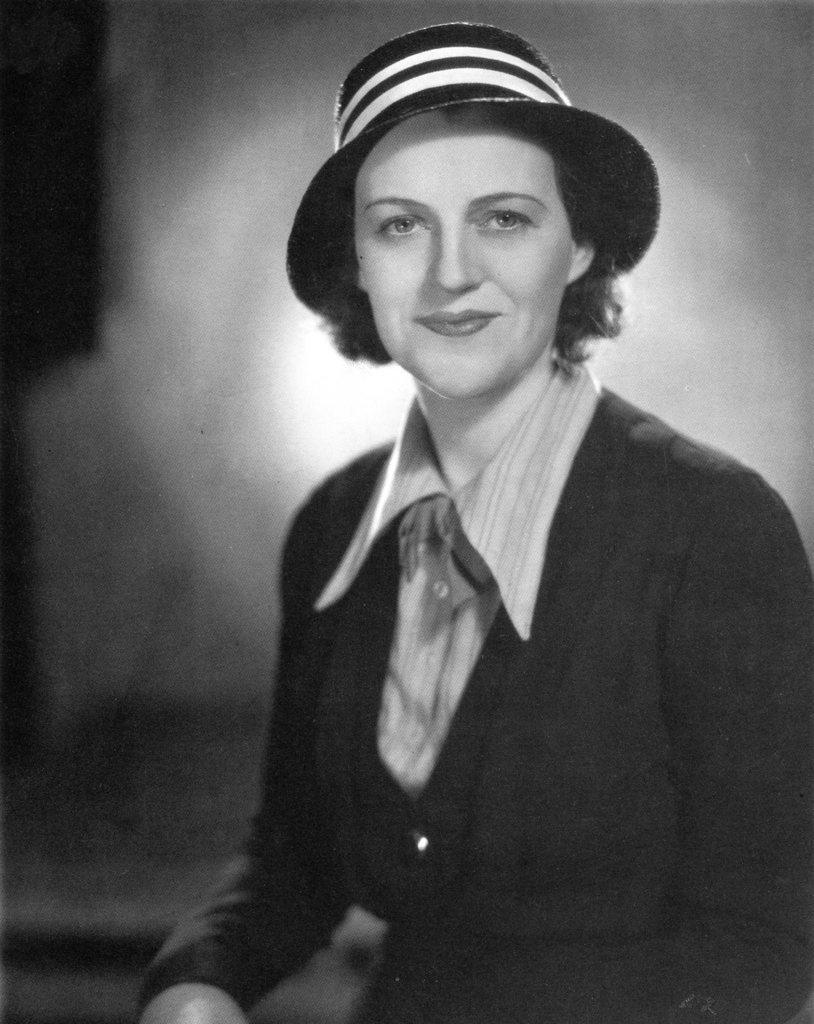Hat: (281, 23, 659, 326)
